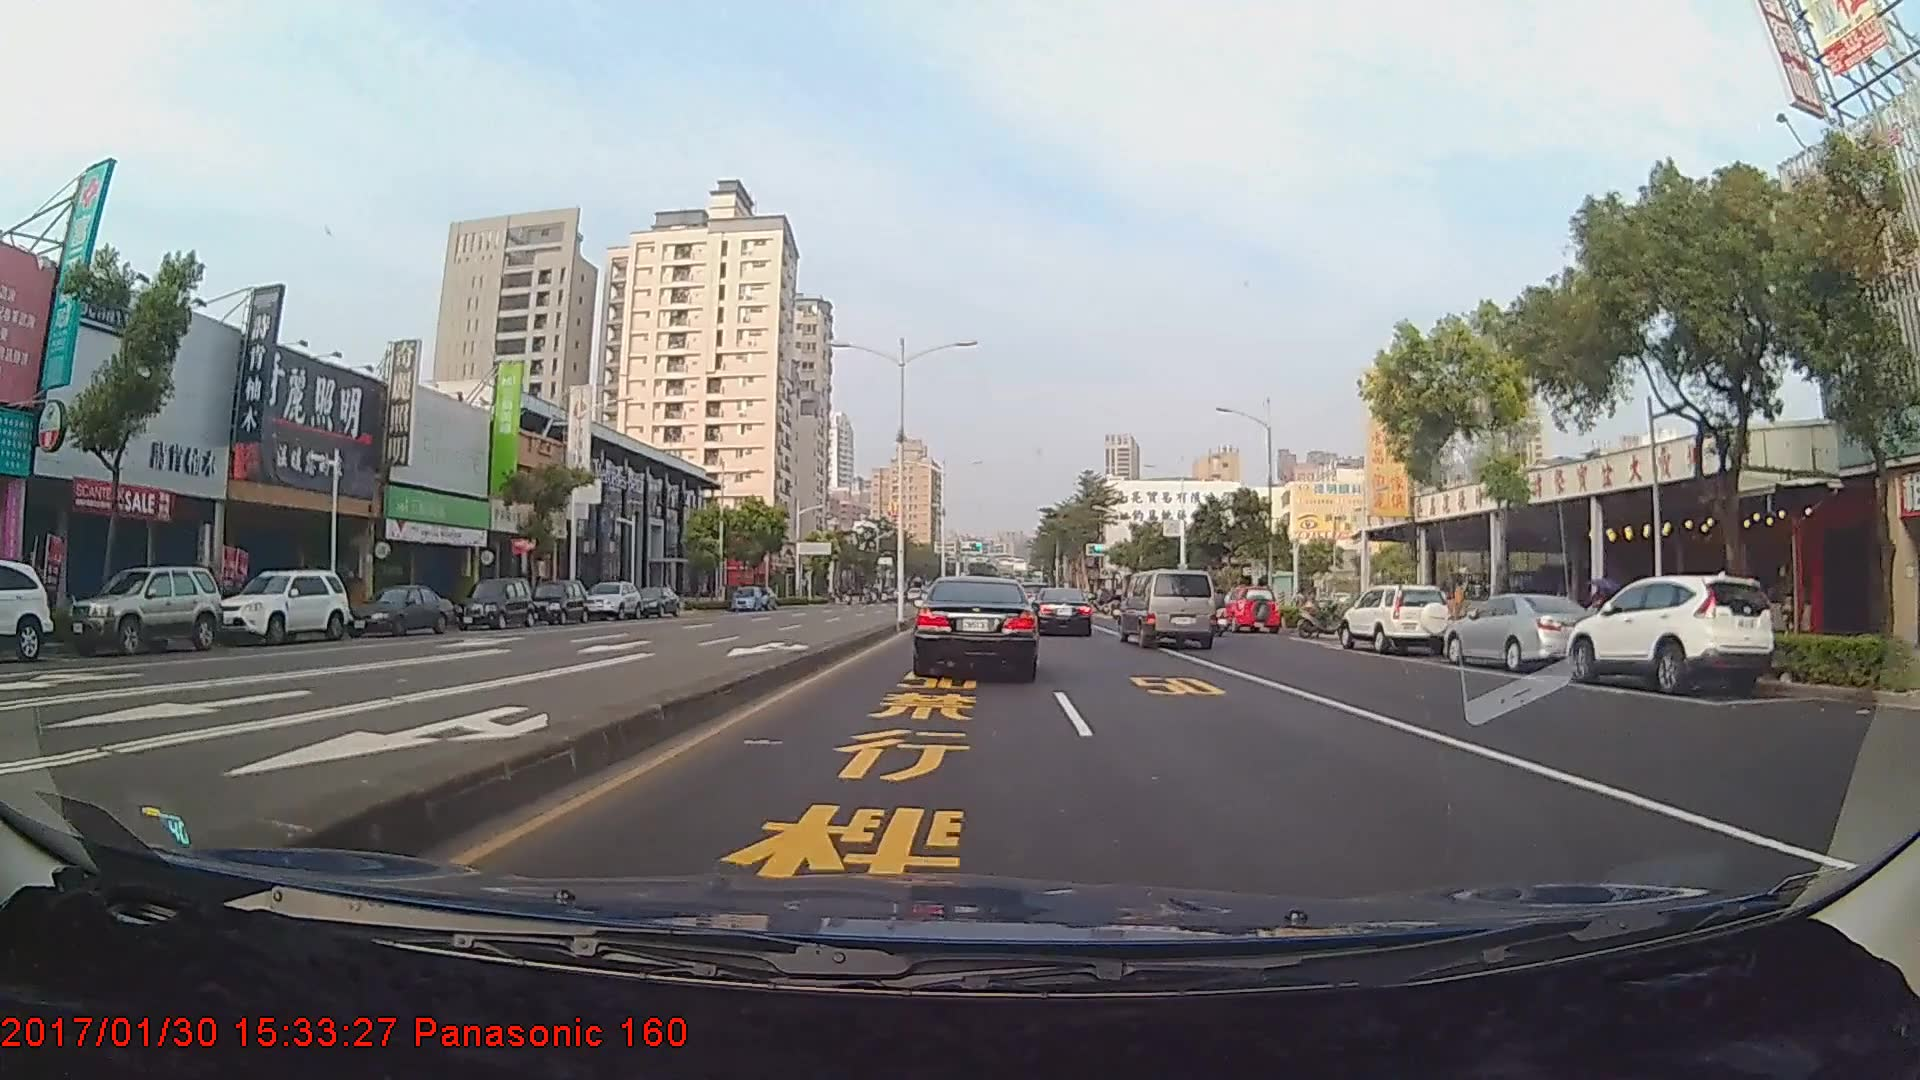vehicle: (1565, 571, 1784, 699), (65, 564, 223, 655), (914, 576, 1039, 680), (1440, 589, 1586, 673), (214, 567, 348, 644), (1337, 582, 1456, 654), (1120, 568, 1216, 650), (342, 585, 454, 638), (0, 559, 54, 661), (450, 576, 533, 629), (1029, 587, 1095, 637), (526, 579, 587, 626), (1225, 585, 1279, 634), (582, 582, 644, 622), (630, 585, 679, 618), (728, 587, 760, 615)
